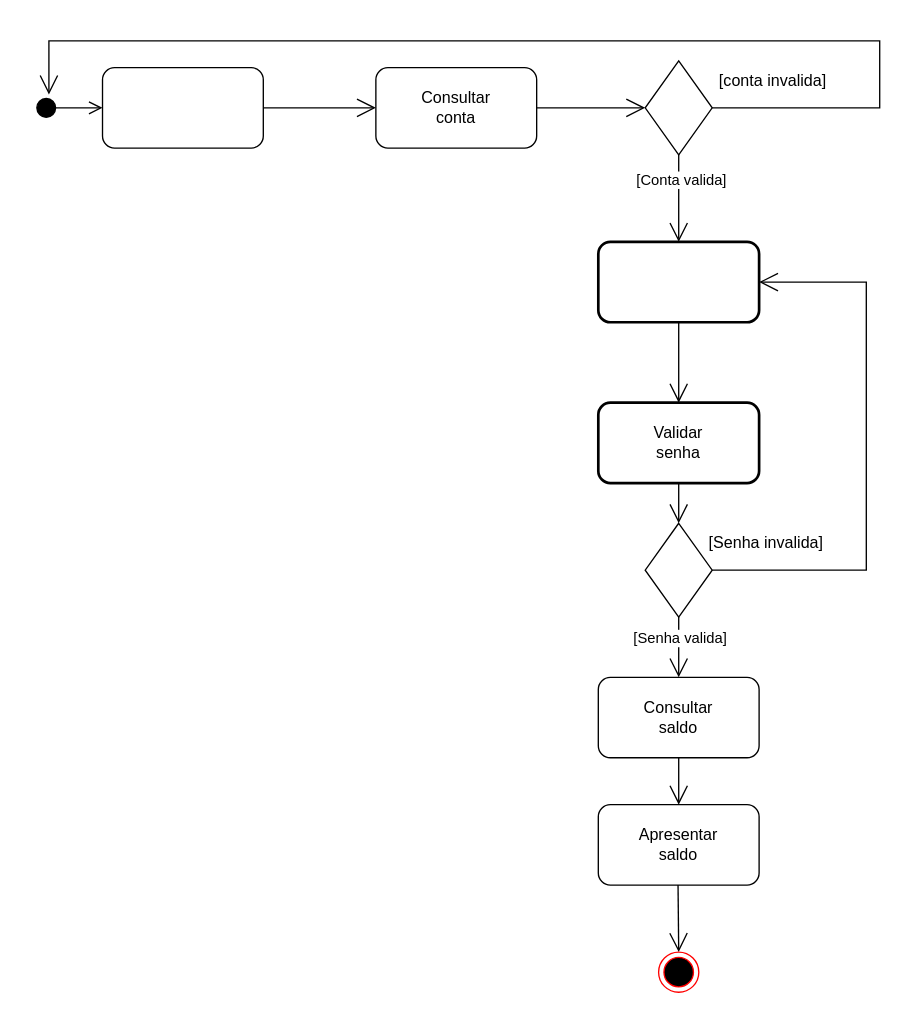
The diagram is 922 pixels wide and 1016 high, and some of its shapes have lost their labels. Here are the shapes that lost their labels. From the top down, the box of each, then its label:
(101, 66, 263, 148): Receber número da conta
(596, 240, 760, 323): Receber senha
